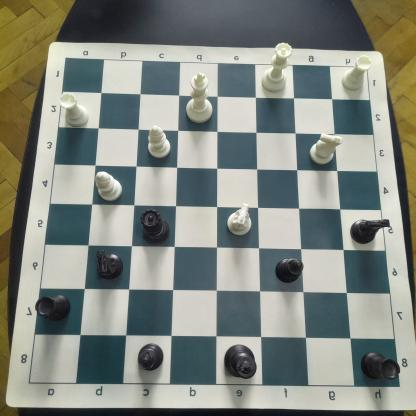black-bishop: (272, 253, 306, 287), (136, 342, 164, 375)
black-king: (221, 341, 259, 382)
black-knight: (348, 214, 392, 246), (93, 247, 126, 282)
black-queen: (138, 206, 174, 247)
black-rook: (358, 348, 403, 382), (34, 291, 71, 324)
white-bishop: (94, 169, 124, 203), (145, 123, 172, 160)
white-king: (184, 72, 216, 124)
white-knight: (307, 129, 344, 167), (223, 202, 253, 238)
white-queen: (258, 41, 294, 94)
white-rook: (339, 53, 374, 92), (58, 91, 90, 129)
